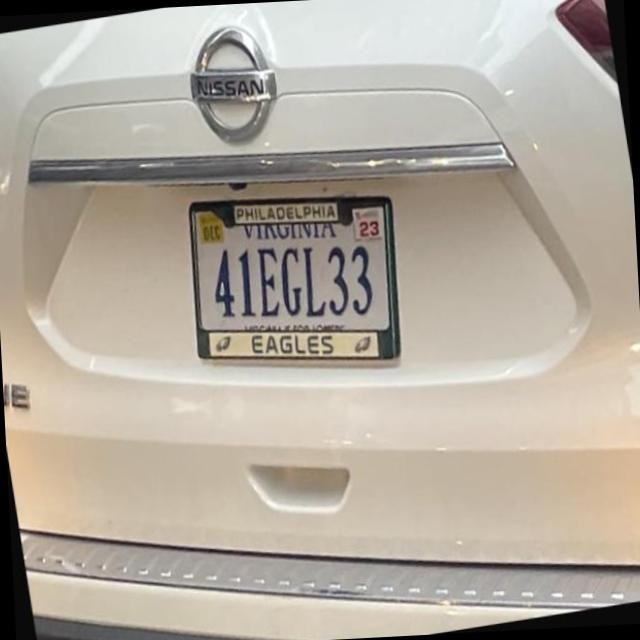LicensePlate: (186, 196, 401, 359)
